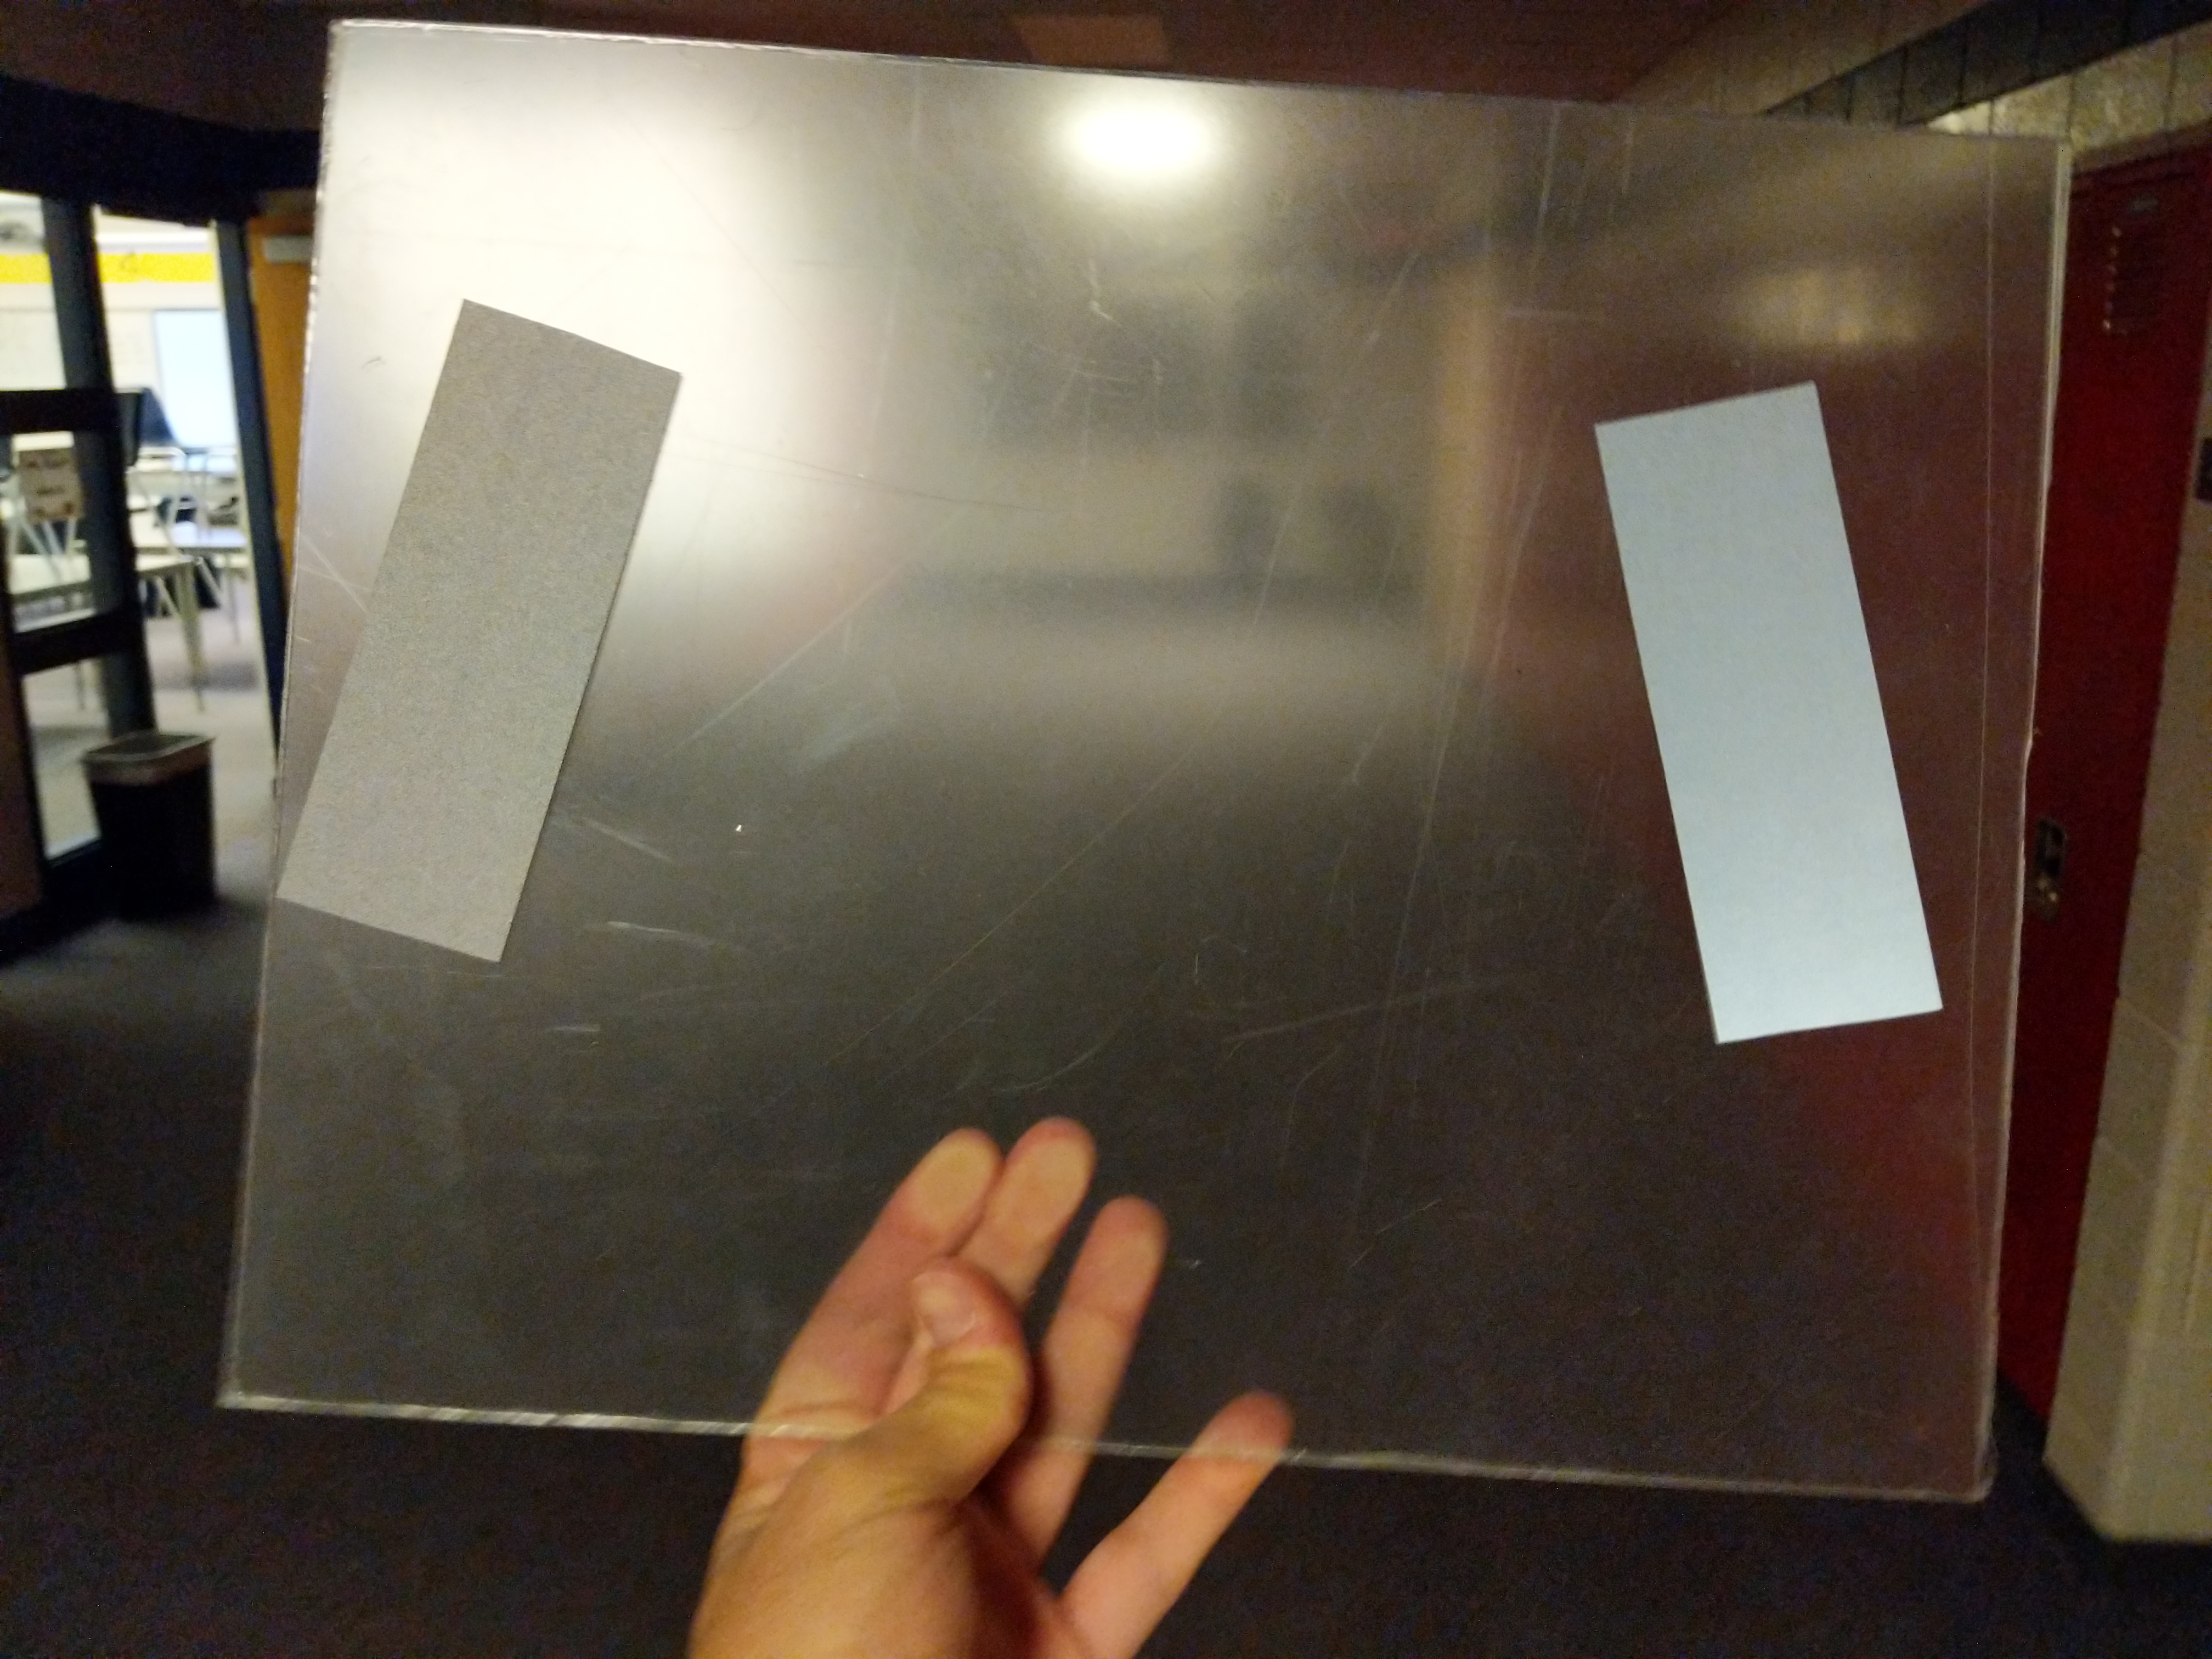vision_target: (263, 281, 1956, 1061)
